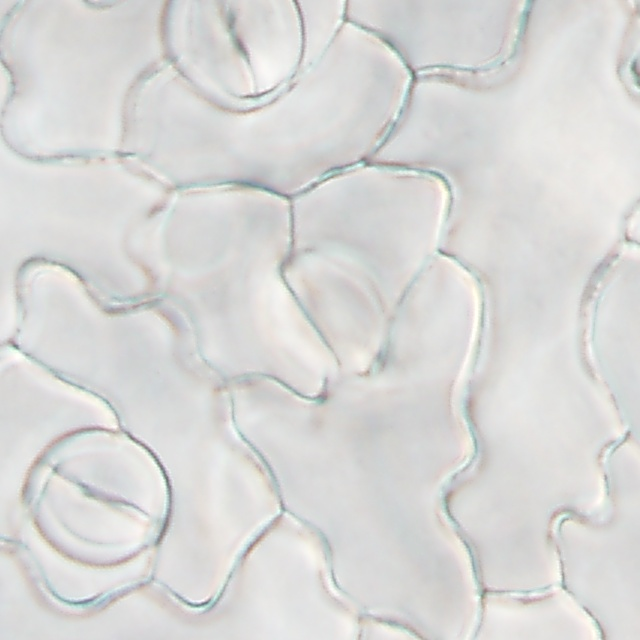center: (78, 483, 129, 514), (609, 56, 640, 59)
stomata-huw1: (24, 429, 170, 565), (162, 0, 304, 110), (620, 13, 639, 102)
